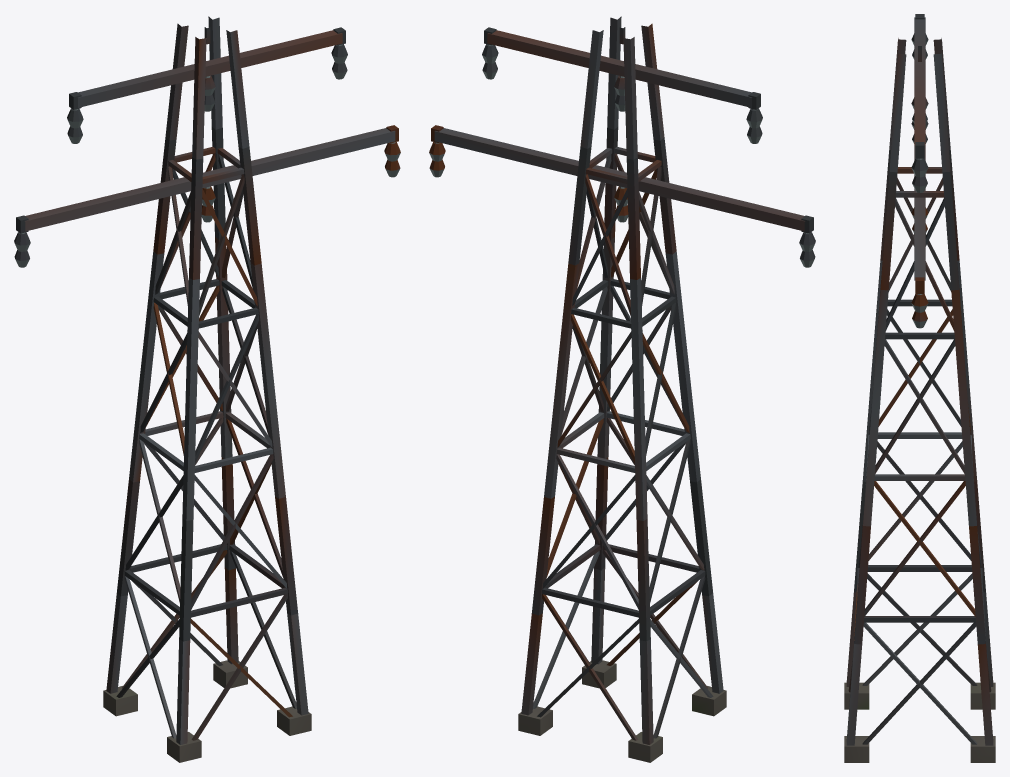
Rendered from lep.glb.
3 views of the same model, side by side, from view 1: azimuth 30°, elevation 25°; view 2: azimuth 150°, elevation 25°; view 3: azimuth 270°, elevation 25° (orthographic).
Parts seen in each view (by area): view 1: lep|lod0|s, lep|lod0|dt; view 2: lep|lod0|s, lep|lod0|dt; view 3: lep|lod0|s, lep|lod0|dt.
Part boxes in pixels (<box>): lep|lod0|s: <box>25,16,395,762</box>; lep|lod0|dt: <box>14,27,400,740</box>; lep|lod0|s: <box>434,16,804,762</box>; lep|lod0|dt: <box>429,27,815,740</box>; lep|lod0|s: <box>844,17,995,762</box>; lep|lod0|dt: <box>848,14,991,744</box>.
Size of what is drawn, in the model's own units: 8.74 by 15.03 by 3.
